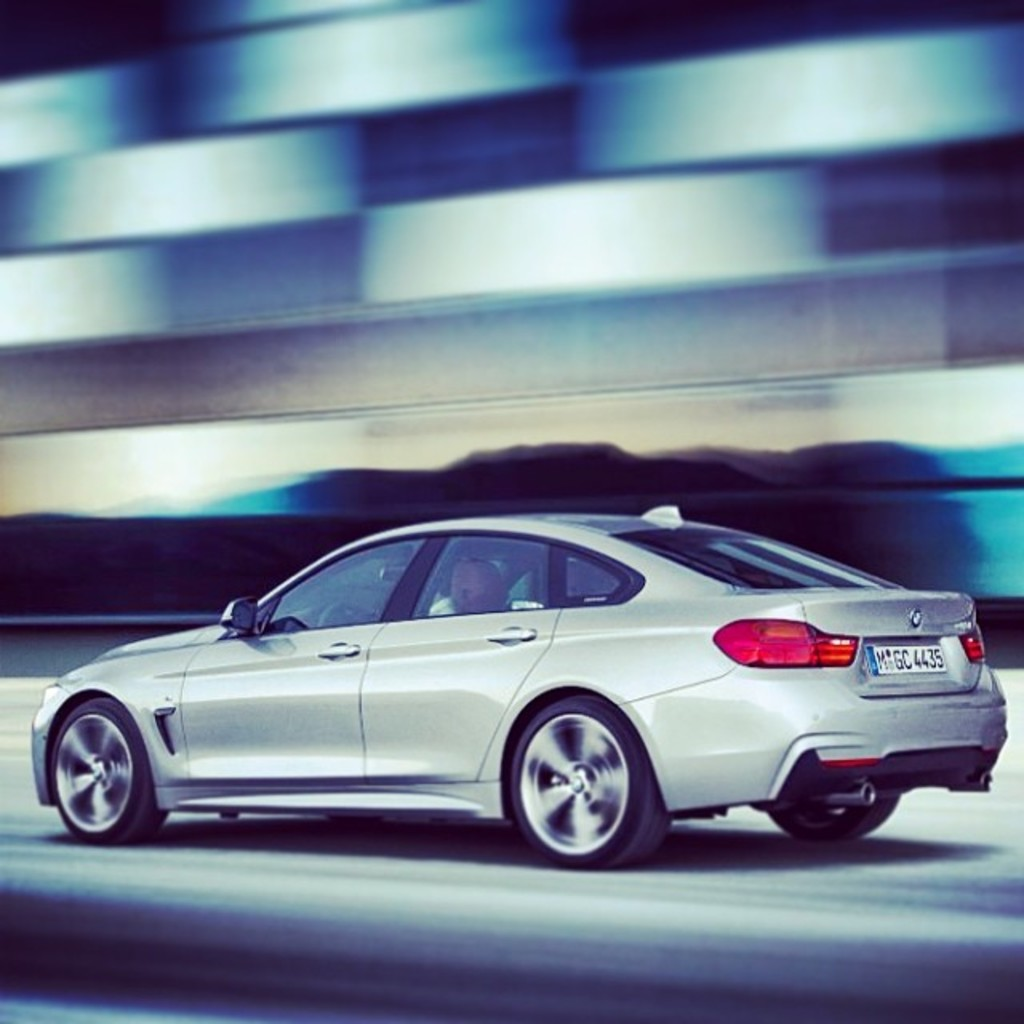Car: (9, 507, 1004, 870)
